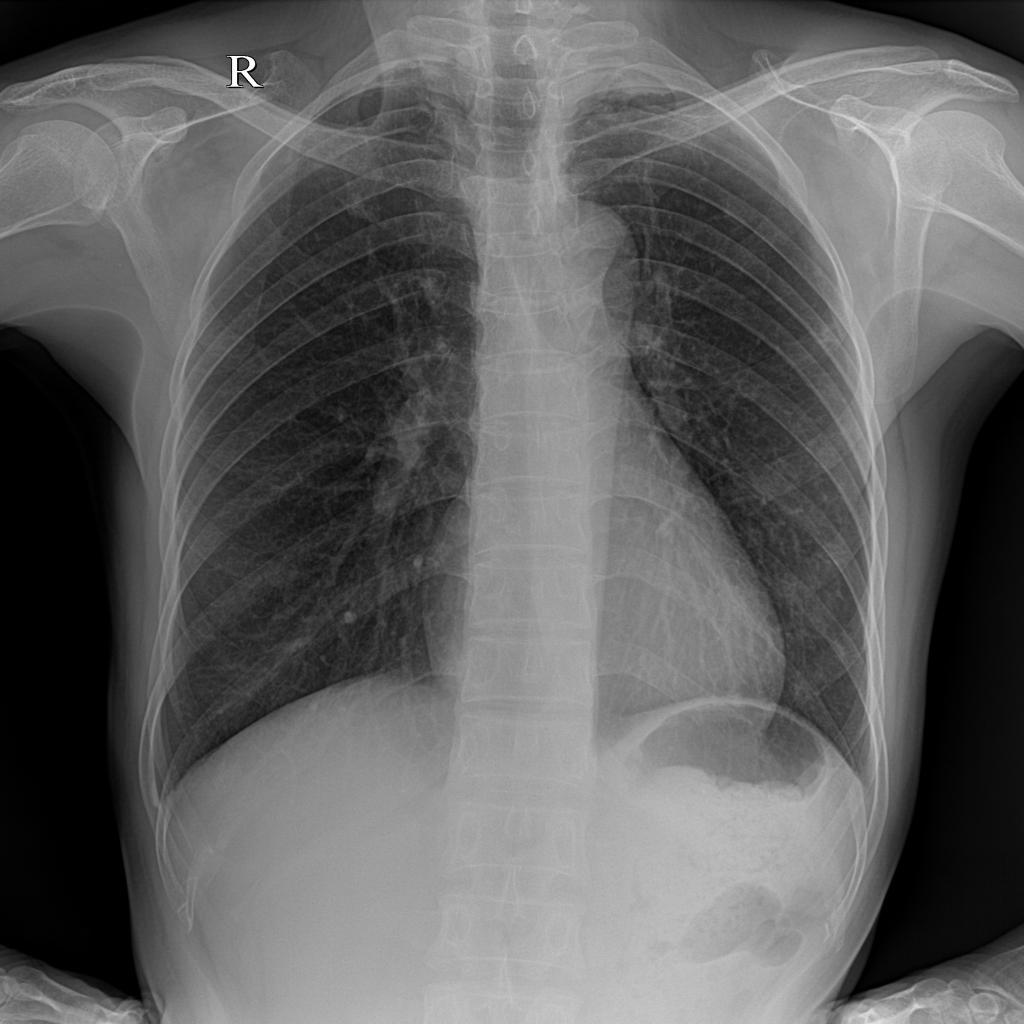Nodule: (780, 304, 860, 368)
